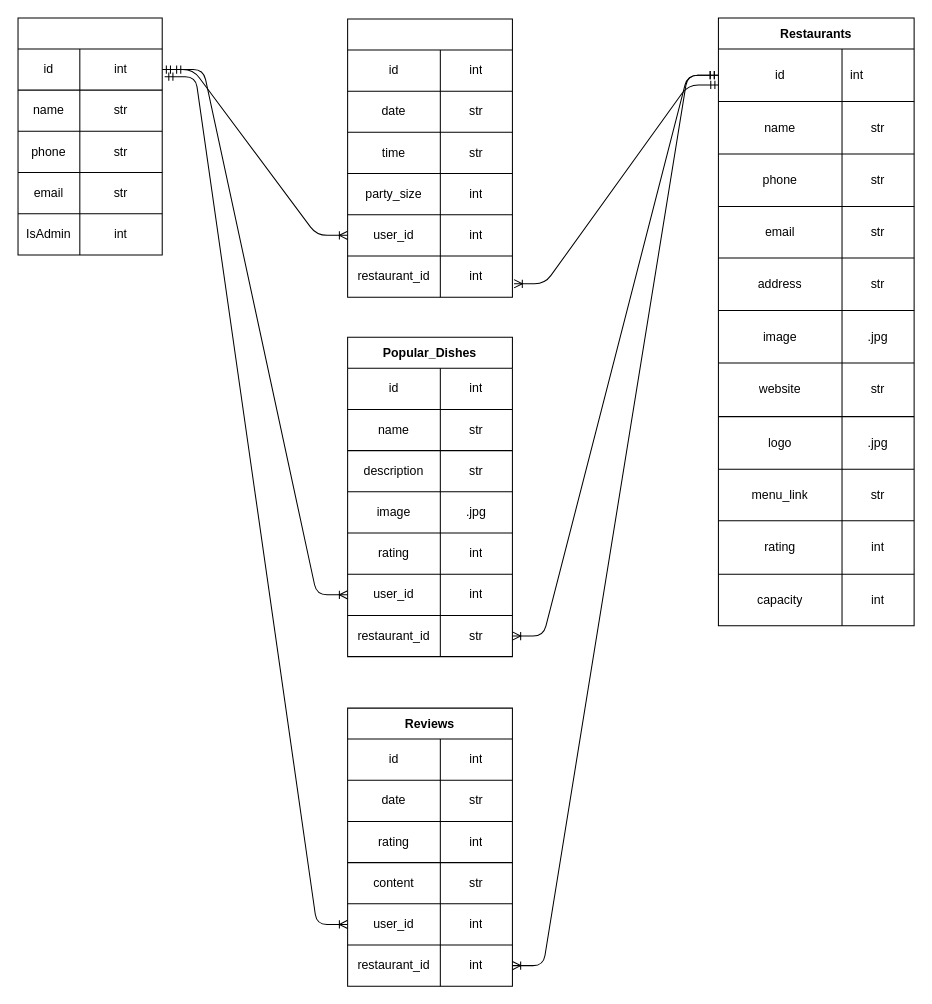
Some shapes in this 932 by 1004 pixel diagram are drawn without their labels. The shapes that lost their labels are listed below. From the top down, each one's box as (x1, y1, x2, y2) in pixels, then its label:
(17, 17, 162, 255): Users
(347, 18, 512, 297): Reservations
